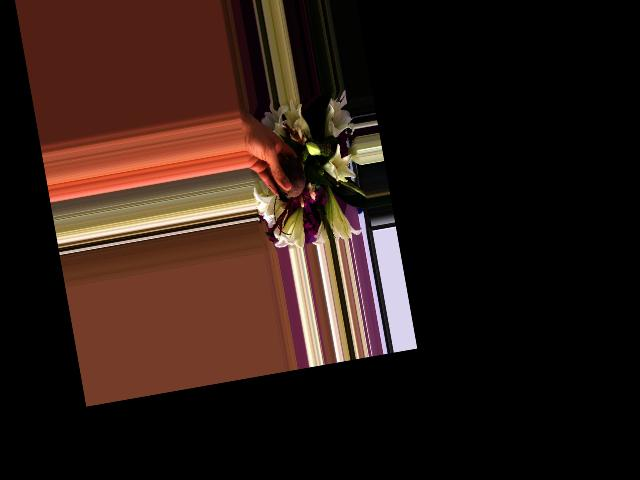beet: (270, 145, 315, 204)
